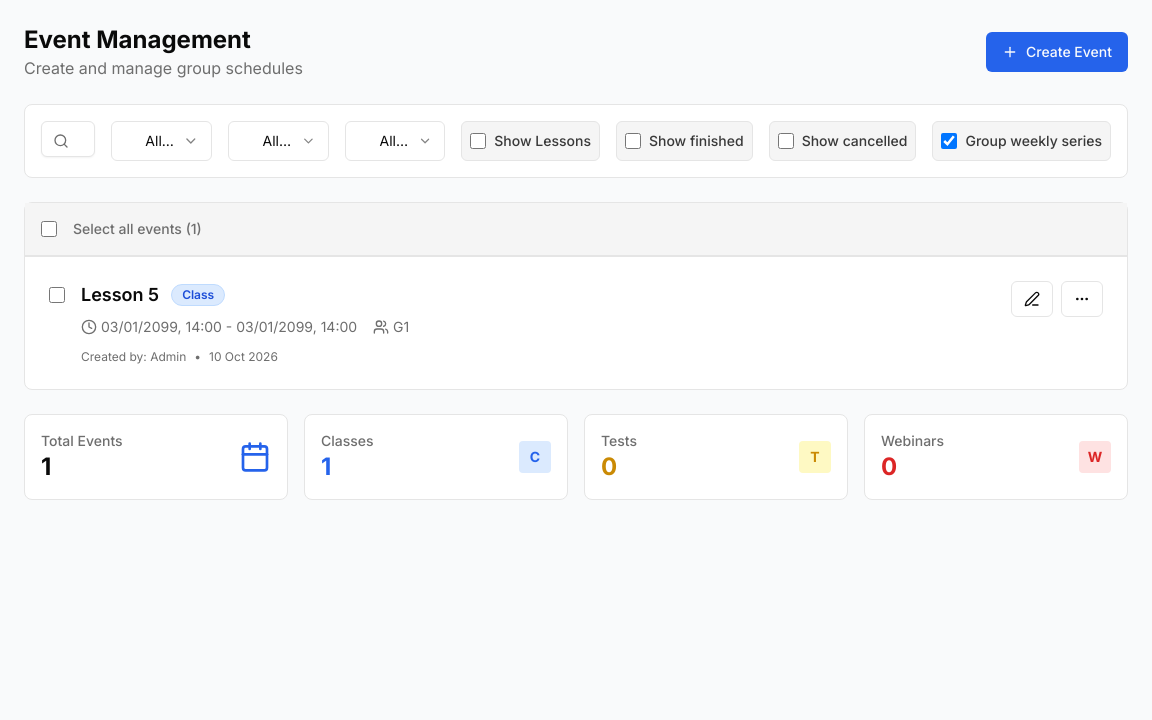
Test case: events list: the ⋯ menu › View Details opens the event card in place, not the dashboard
This screenshot has width=1152, height=720.
Press the mouse on the 3rd button at (1082, 299), box 1061,281 -> 1103,317
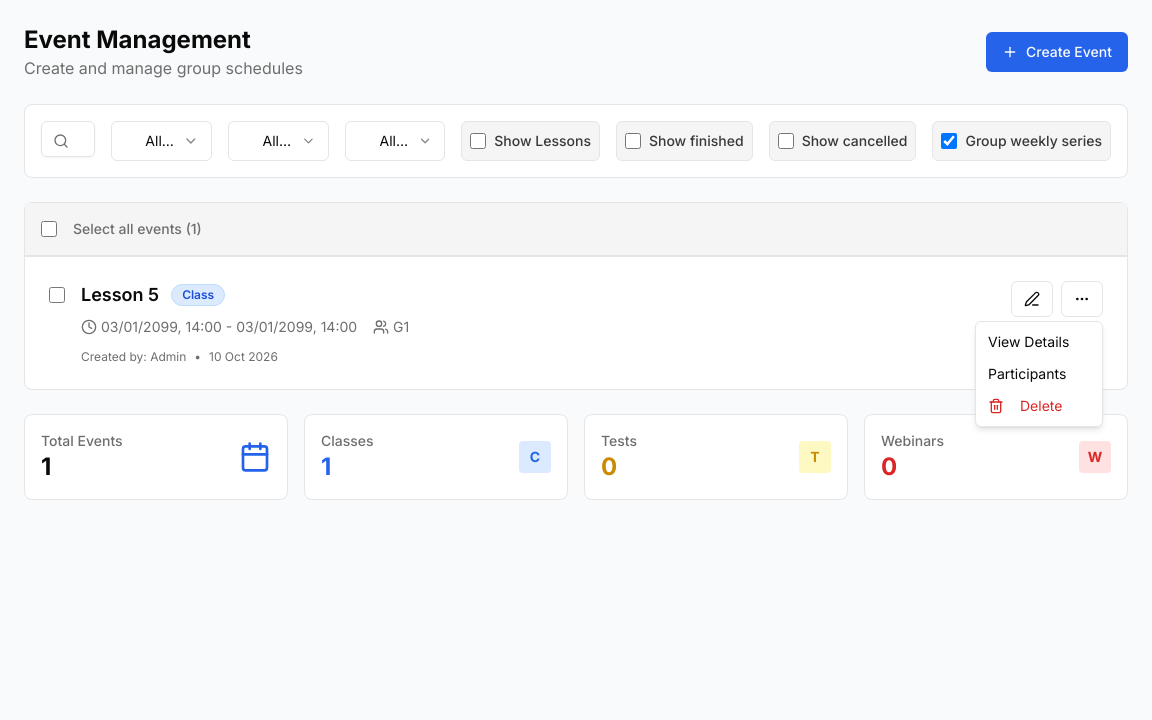
Click the menu item "View Details" at (1029, 342), box 988,333 -> 1069,350
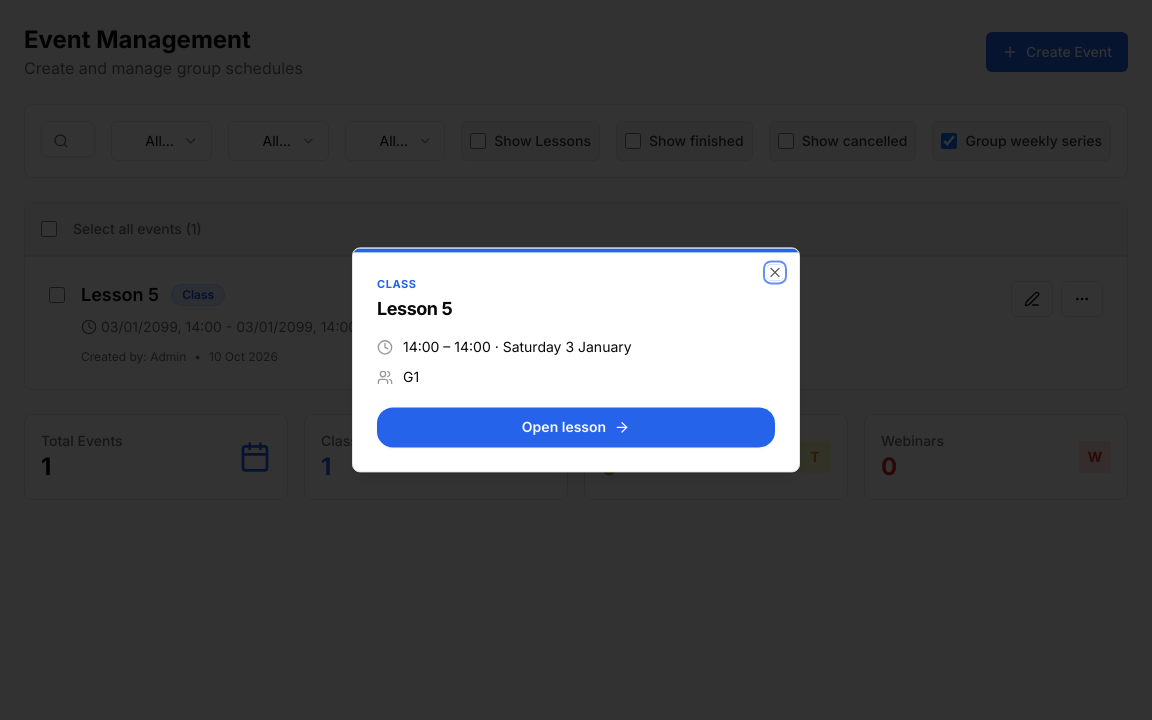
Expected: the text "Lesson 5" is shown, 81,281 -> 159,309
Expected: the dialog shows "Lesson 5", 377,298 -> 452,319
Expected: the dialog shows "Open lesson", 377,408 -> 775,448
